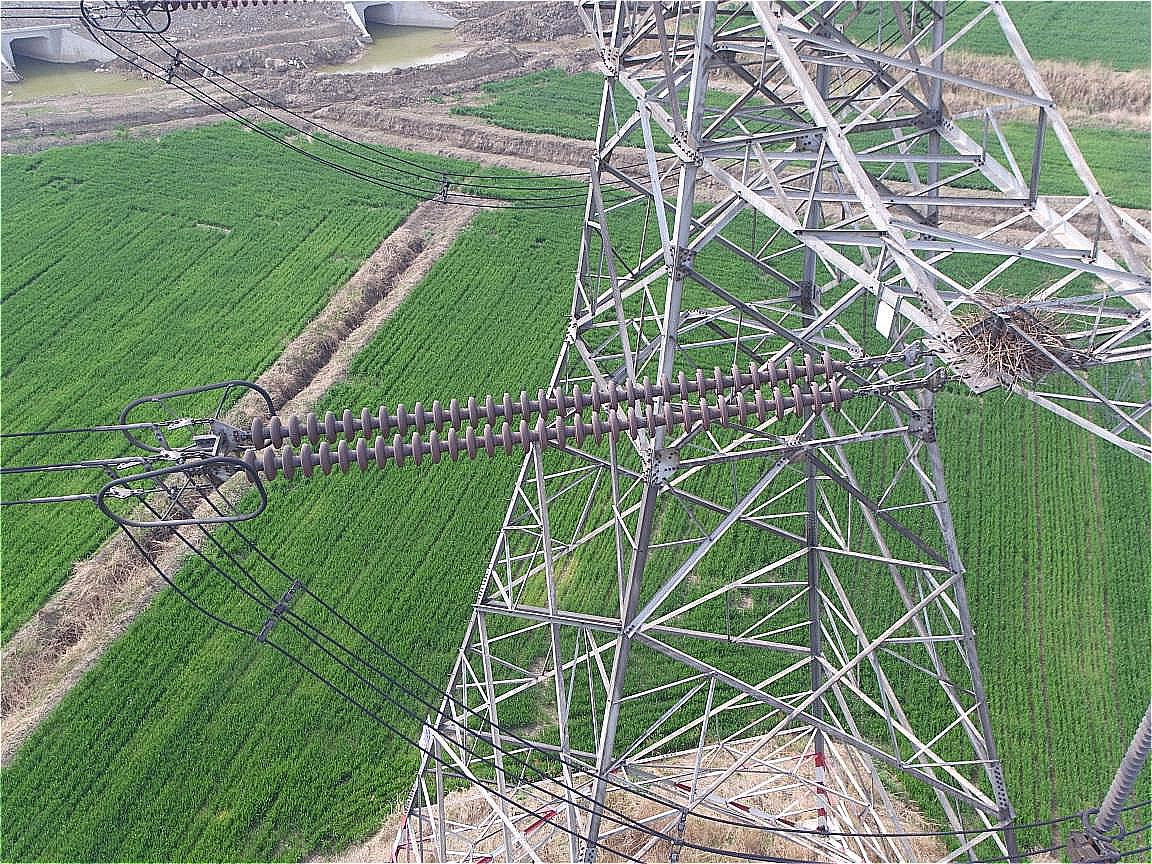insultor1: (195, 338, 892, 495)
